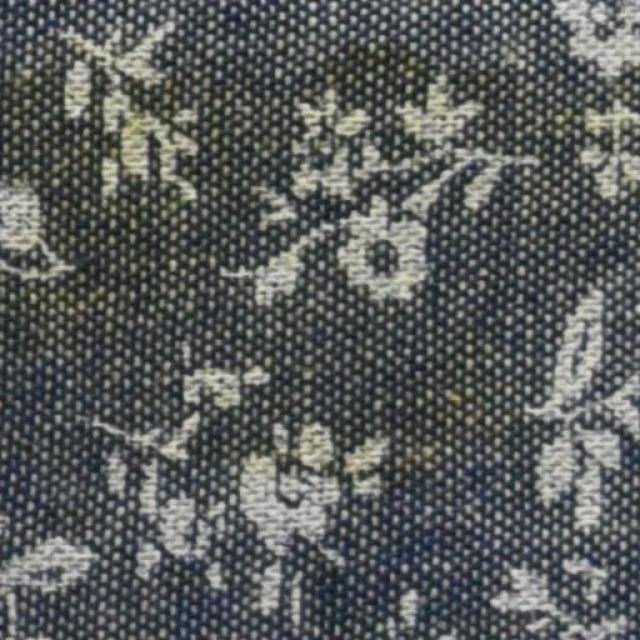Stain: (3, 40, 617, 497)
